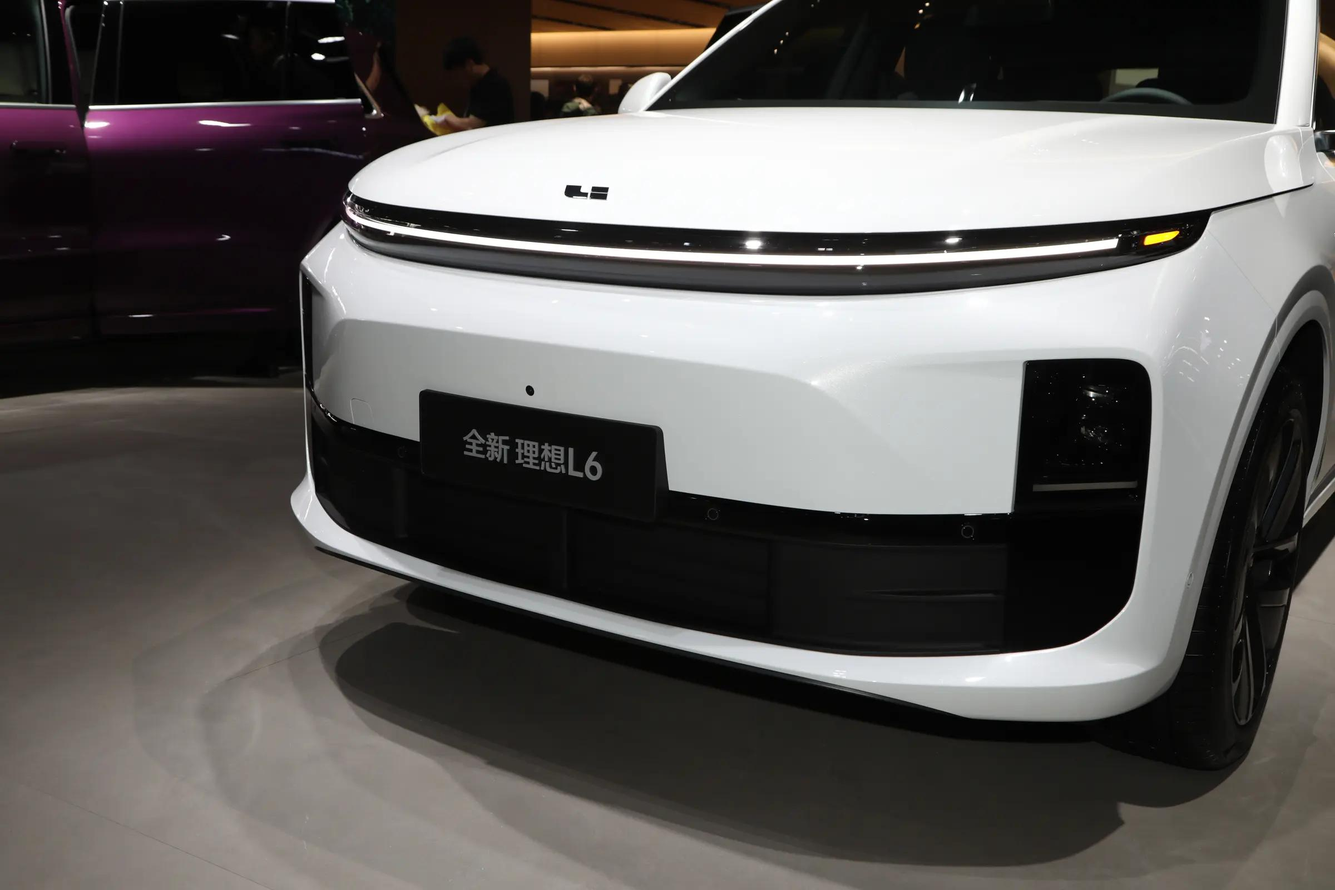Li Auto: (565, 184, 610, 201)
